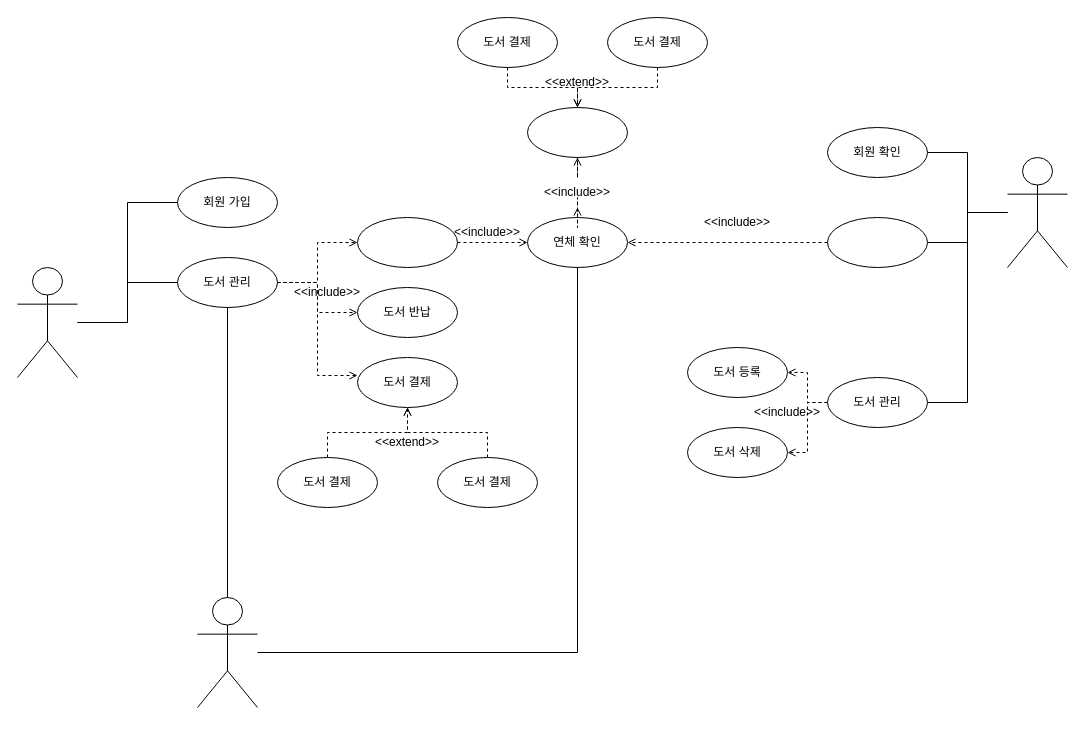
Some shapes in this 1085 by 746 pixel diagram are drawn without their labels. Here are the shapes that lost their labels. From the top down, the centre of each, then its label:
At pixel 577 132: "연체 납부".
At pixel 1037 212: "Manager".
At pixel 407 242: "도서 대여".
At pixel 877 242: "연체 관리".
At pixel 47 322: "Customer".
At pixel 227 652: "Rental".
